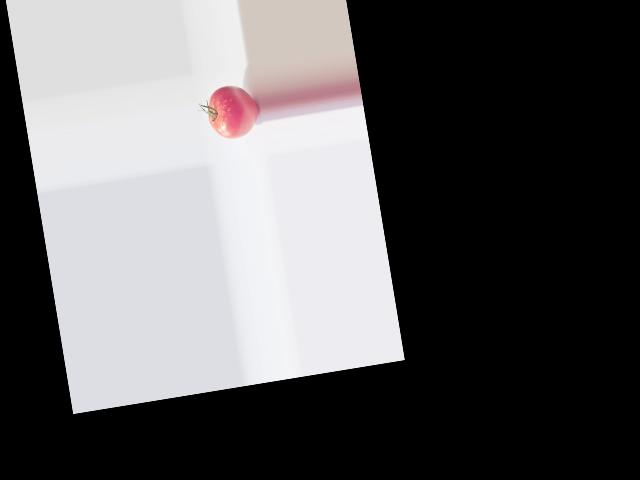tomato: (205, 82, 262, 142)
